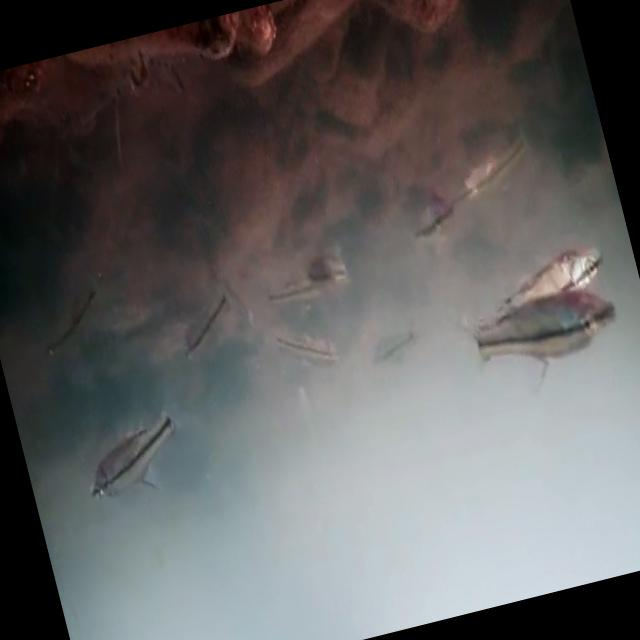Cakil Baligi: (454, 279, 640, 411), (69, 392, 201, 512)
